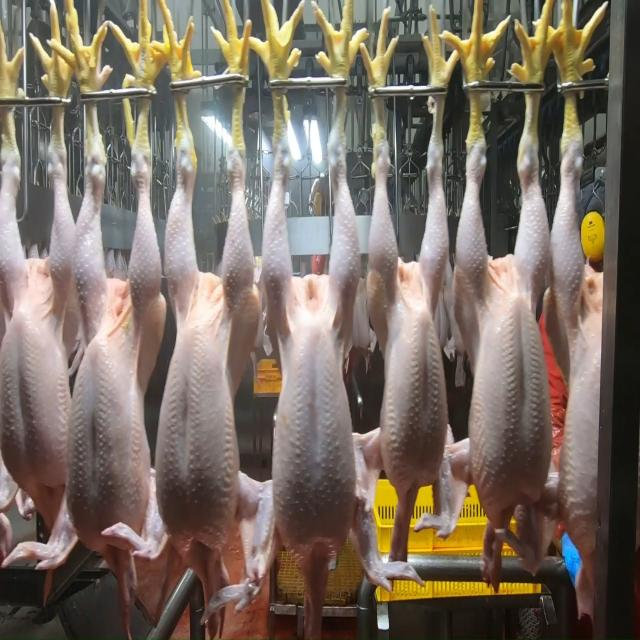chicken: (262, 153, 368, 563), (157, 129, 254, 555), (66, 148, 168, 552), (458, 140, 554, 517), (368, 135, 450, 499), (0, 143, 78, 494), (552, 129, 608, 558)
